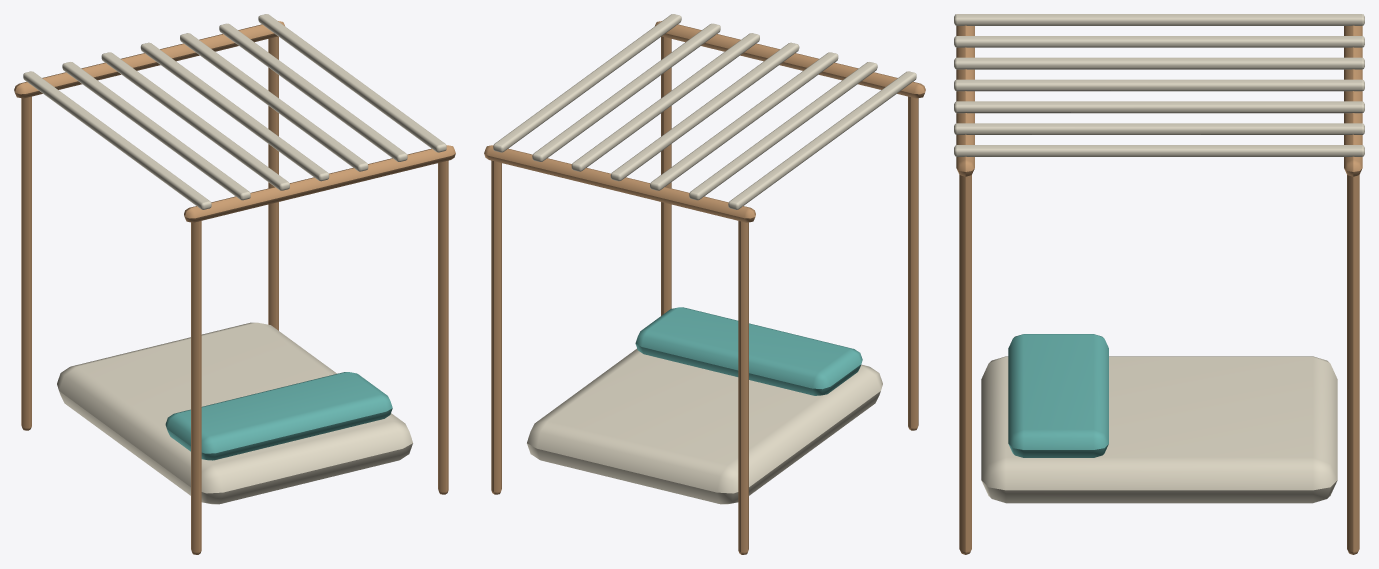
The model's file is garden-cabana.glb.
The picture shows the model from 3 angles, left to right: view 1: azimuth 30°, elevation 25°; view 2: azimuth 150°, elevation 25°; view 3: azimuth 270°, elevation 25°; orthographic projection. The views are drawn at different scales.
Visible parts, largest first — view 1: Daybed, Teal cushion, Canopy beam, Post, Post.002, Post.001, Canopy slat.003, Canopy slat.002, Canopy slat.001, Canopy slat.004, Canopy slat.005, Canopy slat.006 (+3 smaller); view 2: Daybed, Teal cushion, Canopy beam.001, Post.001, Post.003, Post, Canopy slat.003, Canopy slat.002, Canopy slat.001, Canopy slat.004, Canopy slat.005, Canopy slat.006 (+3 smaller); view 3: Daybed, Teal cushion, Canopy slat.002, Canopy slat.003, Canopy slat.004, Canopy slat, Canopy slat.001, Canopy slat.005, Canopy slat.006, Post.002, Post.003, Canopy beam (+1 smaller).
Boxes of the visible parts, x1=… form: Daybed: x1=57, y1=322, x2=412, y2=504; Teal cushion: x1=165, y1=372, x2=392, y2=460; Canopy beam: x1=184, y1=145, x2=455, y2=222; Post: x1=191, y1=221, x2=201, y2=554; Post.002: x1=438, y1=160, x2=448, y2=494; Post.001: x1=21, y1=96, x2=31, y2=430; Canopy slat.003: x1=140, y1=42, x2=329, y2=181; Canopy slat.002: x1=101, y1=52, x2=289, y2=190; Canopy slat.001: x1=62, y1=62, x2=250, y2=200; Canopy slat.004: x1=180, y1=33, x2=368, y2=171; Canopy slat.005: x1=219, y1=23, x2=407, y2=161; Canopy slat.006: x1=258, y1=14, x2=446, y2=152; Daybed: x1=527, y1=348, x2=882, y2=504; Teal cushion: x1=635, y1=307, x2=862, y2=395; Canopy beam.001: x1=484, y1=145, x2=755, y2=222; Post.001: x1=738, y1=221, x2=748, y2=554; Post.003: x1=491, y1=160, x2=501, y2=494; Post: x1=908, y1=96, x2=918, y2=430; Canopy slat.003: x1=610, y1=42, x2=799, y2=181; Canopy slat.002: x1=650, y1=52, x2=838, y2=190; Canopy slat.001: x1=689, y1=62, x2=877, y2=200; Canopy slat.004: x1=571, y1=33, x2=759, y2=171; Canopy slat.005: x1=532, y1=23, x2=720, y2=161; Canopy slat.006: x1=493, y1=14, x2=681, y2=152; Daybed: x1=981, y1=356, x2=1337, y2=503; Teal cushion: x1=1008, y1=334, x2=1108, y2=457; Canopy slat.002: x1=954, y1=57, x2=1364, y2=69; Canopy slat.003: x1=954, y1=79, x2=1364, y2=91; Canopy slat.004: x1=954, y1=101, x2=1364, y2=113; Canopy slat: x1=954, y1=14, x2=1364, y2=25; Canopy slat.001: x1=954, y1=36, x2=1364, y2=47; Canopy slat.005: x1=954, y1=123, x2=1364, y2=134; Canopy slat.006: x1=954, y1=145, x2=1364, y2=156; Post.002: x1=959, y1=174, x2=971, y2=554; Post.003: x1=1347, y1=174, x2=1359, y2=554; Canopy beam: x1=956, y1=25, x2=974, y2=176.
Bounding box in the file's own units: 2.3 × 2.88 × 2.65.
